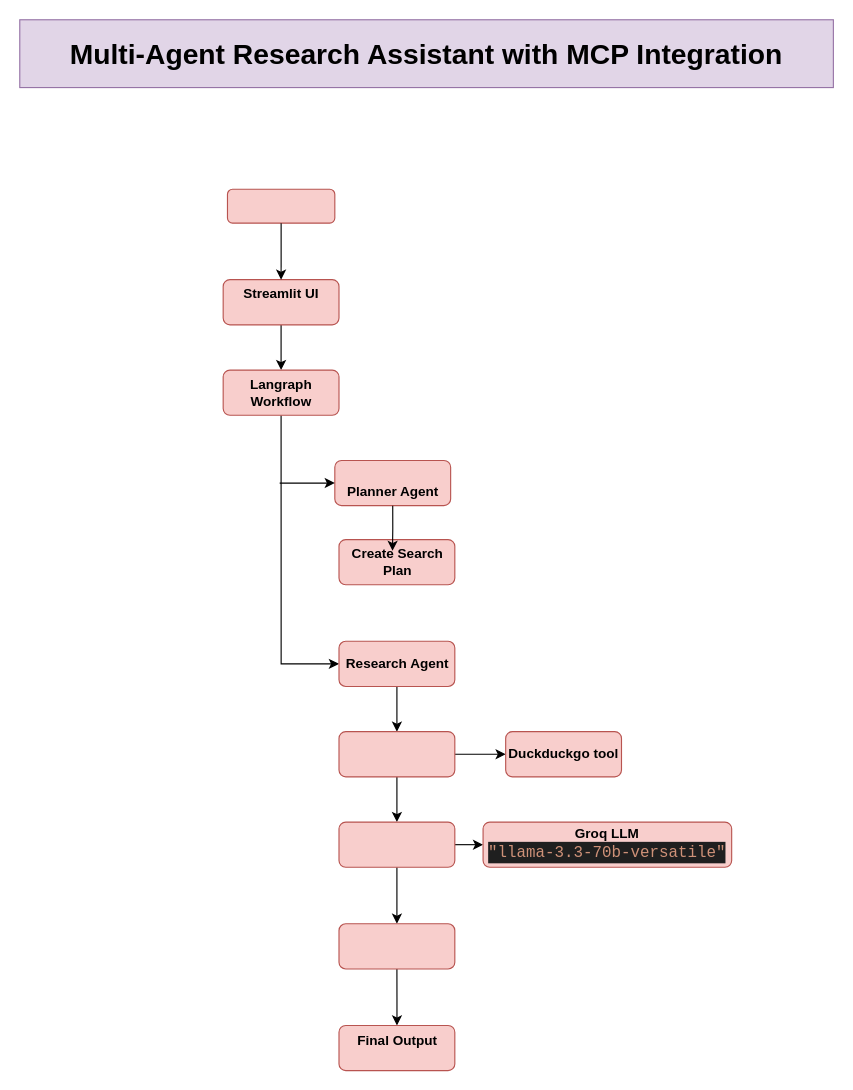
Image size: 853x1090. Some labels were removed from this diagram. Here are the shapes that lost their labels. From the top down, the centre of each, then its label:
point (280, 205): User
point (396, 754): MCP Tool (Web Search)
point (396, 844): LLM Answer
point (396, 946): Postgresql Storage
